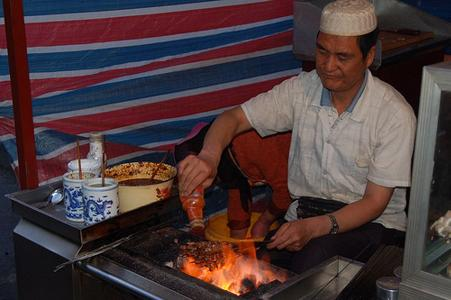person: (177, 2, 419, 255)
